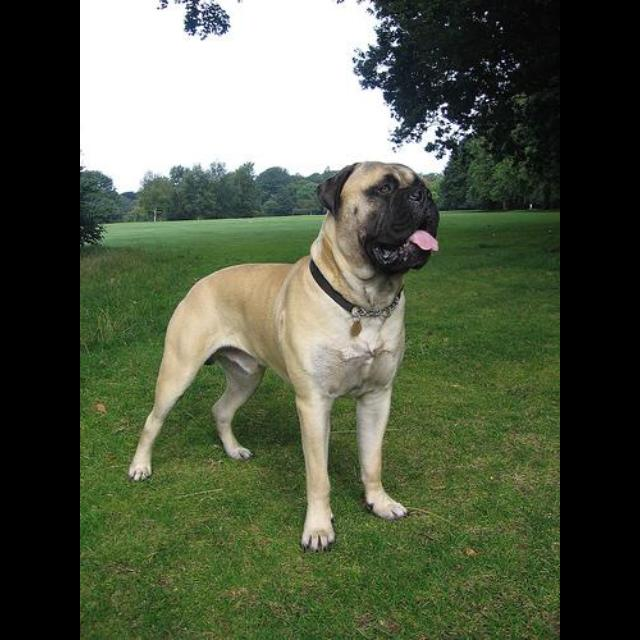bullmastiff: (128, 161, 441, 553)
